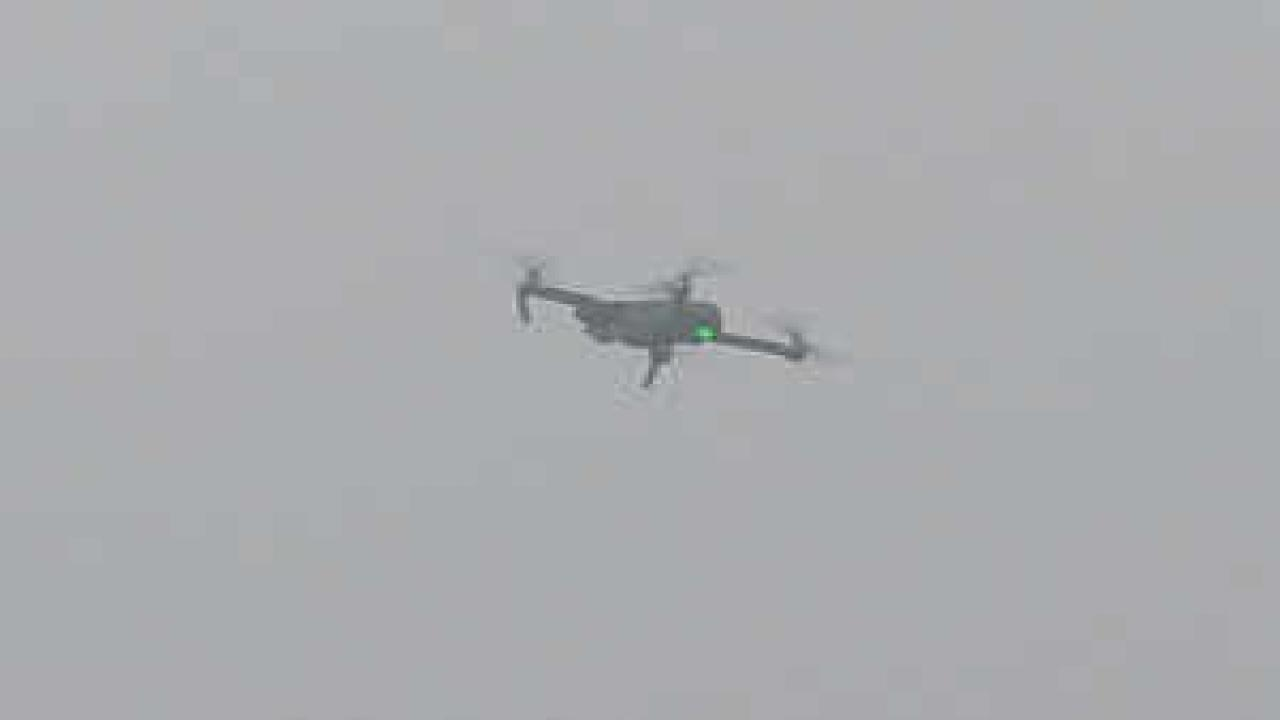Drone: (489, 239, 868, 403)
